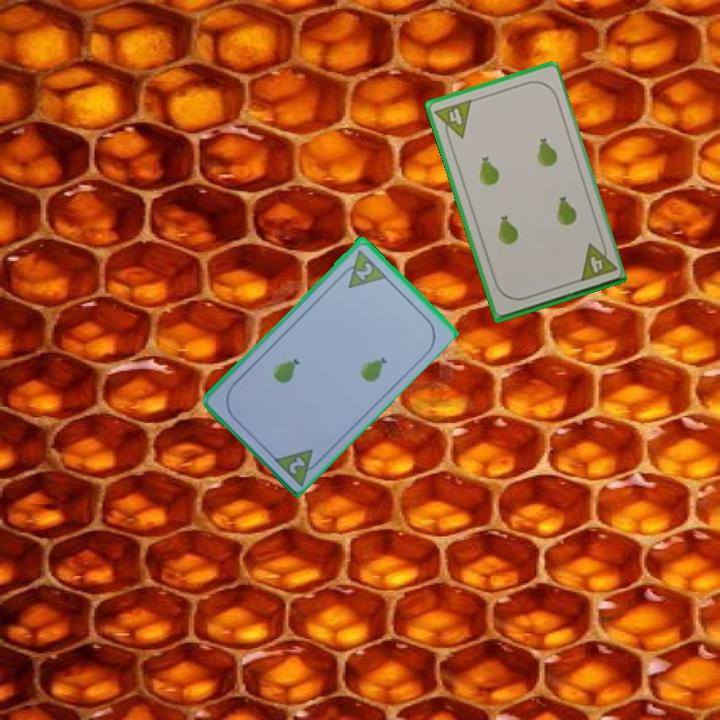2p: (335, 245, 389, 291), (285, 452, 308, 477)
4p: (575, 237, 619, 285), (431, 96, 474, 145)
